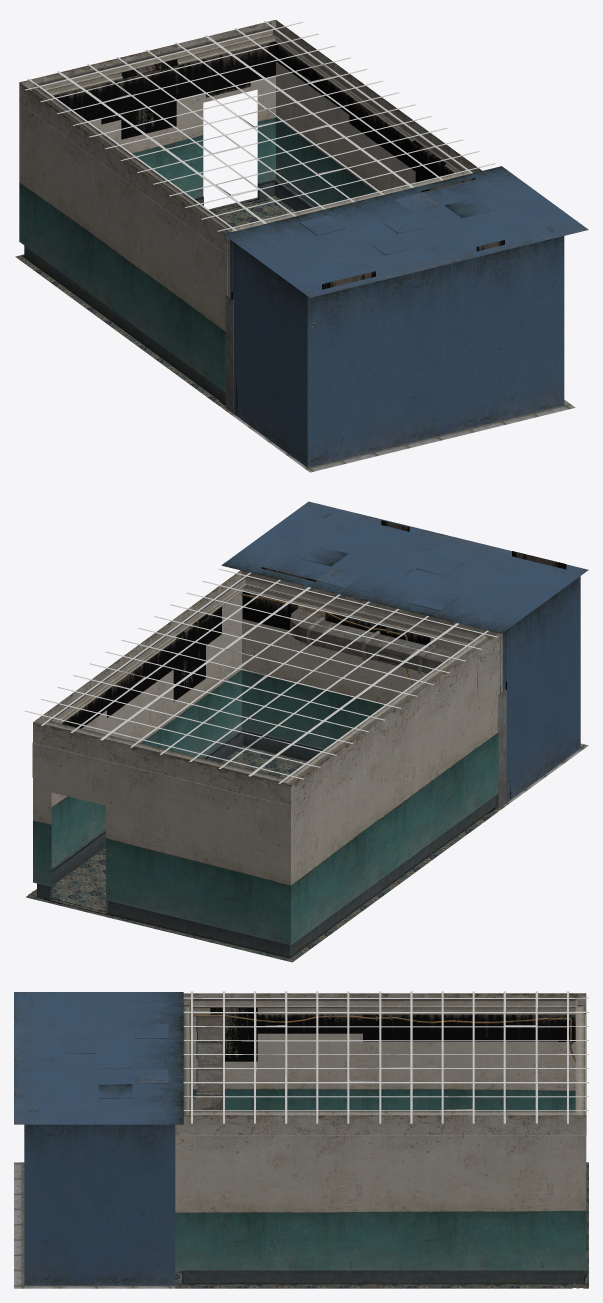
Rendered from st4_209_0_terrain_00ms.fbx.
The picture shows the model from 3 angles, top to bottom: view 1: azimuth 30°, elevation 25°; view 2: azimuth 150°, elevation 25°; view 3: azimuth 270°, elevation 25°; orthographic projection. The views are drawn at different scales.
Parts seen in each view (by area): view 1: LOD_1_Group_0_Sub_3__st2_police1fRightWall01, LOD_1_Group_0_Sub_2__st2_police1fLeftWall01, LOD_1_Group_0_Sub_12__st2_Dirt01, LOD_1_Group_0_Sub_1__st2_police1fLeftCeiling04, LOD_1_Group_0_Sub_6__st2_police1fLeftCeiling03, LOD_1_Group_0_Sub_4__st2_police1fLeftFloor03, LOD_1_Group_0_Sub_5__st2_police1fLeftFloor04, LOD_1_Group_0_Sub_7__st2_police1fLeftDoor03; view 2: LOD_1_Group_0_Sub_2__st2_police1fLeftWall01, LOD_1_Group_0_Sub_3__st2_police1fRightWall01, LOD_1_Group_0_Sub_1__st2_police1fLeftCeiling04, LOD_1_Group_0_Sub_6__st2_police1fLeftCeiling03, LOD_1_Group_0_Sub_12__st2_Dirt01, LOD_1_Group_0_Sub_4__st2_police1fLeftFloor03, LOD_1_Group_0_Sub_8__st2_police1fLeftPipeline01, LOD_1_Group_0_Sub_7__st2_police1fLeftDoor03; view 3: LOD_1_Group_0_Sub_2__st2_police1fLeftWall01, LOD_1_Group_0_Sub_3__st2_police1fRightWall01, LOD_1_Group_0_Sub_1__st2_police1fLeftCeiling04, LOD_1_Group_0_Sub_6__st2_police1fLeftCeiling03, LOD_1_Group_0_Sub_12__st2_Dirt01, LOD_1_Group_0_Sub_8__st2_police1fLeftPipeline01, LOD_1_Group_0_Sub_4__st2_police1fLeftFloor03, LOD_1_Group_0_Sub_5__st2_police1fLeftFloor04.
Part boxes in pixels (x1=…): LOD_1_Group_0_Sub_3__st2_police1fRightWall01: x1=223, y1=166, x2=588, y2=467; LOD_1_Group_0_Sub_2__st2_police1fLeftWall01: x1=19, y1=20, x2=481, y2=392; LOD_1_Group_0_Sub_12__st2_Dirt01: x1=53, y1=41, x2=504, y2=405; LOD_1_Group_0_Sub_1__st2_police1fLeftCeiling04: x1=22, y1=26, x2=470, y2=404; LOD_1_Group_0_Sub_6__st2_police1fLeftCeiling03: x1=24, y1=21, x2=495, y2=231; LOD_1_Group_0_Sub_4__st2_police1fLeftFloor03: x1=15, y1=196, x2=295, y2=411; LOD_1_Group_0_Sub_5__st2_police1fLeftFloor04: x1=227, y1=399, x2=575, y2=472; LOD_1_Group_0_Sub_7__st2_police1fLeftDoor03: x1=225, y1=294, x2=233, y2=413; LOD_1_Group_0_Sub_2__st2_police1fLeftWall01: x1=33, y1=570, x2=502, y2=945; LOD_1_Group_0_Sub_3__st2_police1fRightWall01: x1=221, y1=501, x2=588, y2=802; LOD_1_Group_0_Sub_1__st2_police1fLeftCeiling04: x1=33, y1=576, x2=496, y2=958; LOD_1_Group_0_Sub_6__st2_police1fLeftCeiling03: x1=24, y1=569, x2=497, y2=783; LOD_1_Group_0_Sub_12__st2_Dirt01: x1=32, y1=520, x2=566, y2=917; LOD_1_Group_0_Sub_4__st2_police1fLeftFloor03: x1=26, y1=746, x2=505, y2=962; LOD_1_Group_0_Sub_8__st2_police1fLeftPipeline01: x1=241, y1=513, x2=487, y2=951; LOD_1_Group_0_Sub_7__st2_police1fLeftDoor03: x1=495, y1=689, x2=506, y2=808; LOD_1_Group_0_Sub_2__st2_police1fLeftWall01: x1=175, y1=993, x2=586, y2=1270; LOD_1_Group_0_Sub_3__st2_police1fRightWall01: x1=14, y1=992, x2=183, y2=1285; LOD_1_Group_0_Sub_1__st2_police1fLeftCeiling04: x1=180, y1=998, x2=587, y2=1284; LOD_1_Group_0_Sub_6__st2_police1fLeftCeiling03: x1=183, y1=991, x2=588, y2=1123; LOD_1_Group_0_Sub_12__st2_Dirt01: x1=197, y1=1008, x2=586, y2=1280; LOD_1_Group_0_Sub_8__st2_police1fLeftPipeline01: x1=29, y1=1014, x2=575, y2=1284; LOD_1_Group_0_Sub_4__st2_police1fLeftFloor03: x1=175, y1=1162, x2=588, y2=1288; LOD_1_Group_0_Sub_5__st2_police1fLeftFloor04: x1=14, y1=1162, x2=175, y2=1288.
Bounding box in the file's own units: 5.87 × 3.64 × 10.72.
